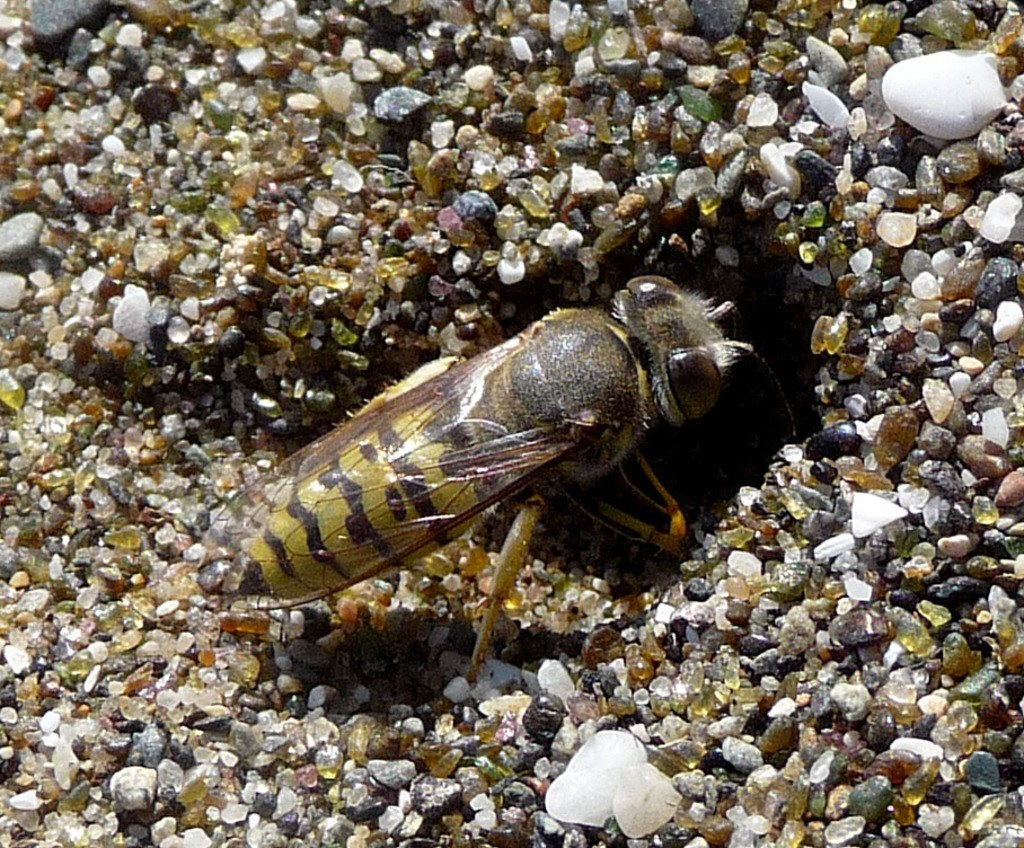bee: (198, 273, 759, 662)
